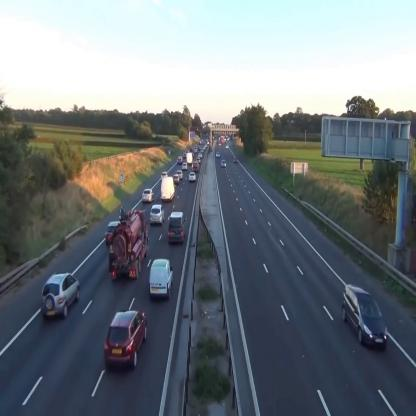car: (342, 284, 388, 347), (105, 310, 147, 367), (41, 273, 80, 318), (150, 205, 165, 225), (106, 221, 120, 242), (142, 188, 154, 202), (188, 171, 196, 181), (161, 171, 168, 181), (174, 174, 180, 184), (192, 162, 198, 171), (177, 170, 183, 178), (177, 156, 182, 164), (221, 159, 226, 166), (182, 163, 187, 169)
lorry: (110, 210, 148, 282), (149, 258, 174, 298), (168, 211, 186, 243), (161, 177, 175, 200)
